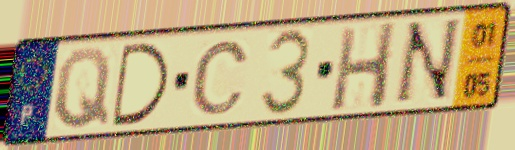3: (256, 26, 314, 120)
C: (189, 38, 252, 118)
D: (109, 40, 173, 130)
H: (327, 19, 400, 114)
N: (389, 15, 464, 109)
Q: (51, 45, 114, 133)
